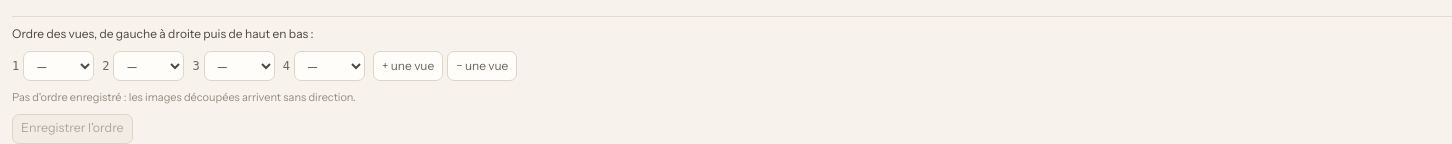
une liste par vue trouvée sur la planche, et l'ordre ne part qu'entier
(page scrolled)
Check: the text "Ordre des vues, de gauche à droite puis de haut en bas :" is shown, box [12,26,314,41]
Check: the text "arrivent sans direction" is shown, box [12,90,356,104]
Step 1. Select "sud" in the dropdown named "Vue 1" → (59, 66), box [23,51,94,81]
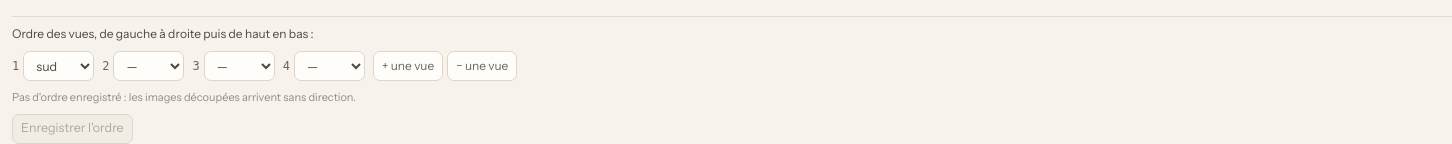
Step 2. Select "est" in the dropdown named "Vue 2" → (149, 66), box [114,51,184,81]
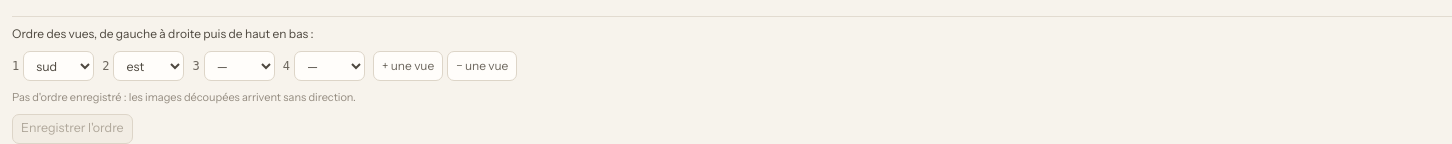
Step 3. Select "nord" in the dropdown named "Vue 3" → (239, 66), box [204,51,275,81]
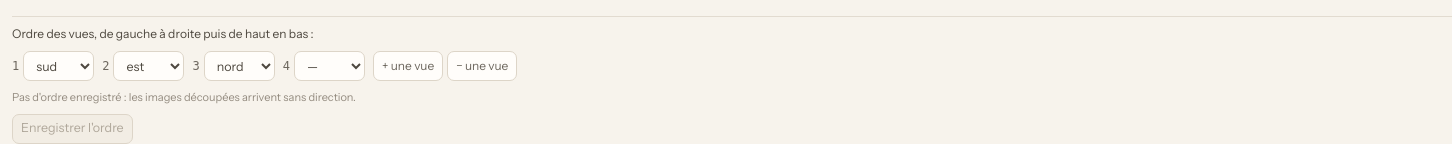
Step 4. Select "ouest" in the dropdown named "Vue 4" → (329, 66), box [294,51,365,81]
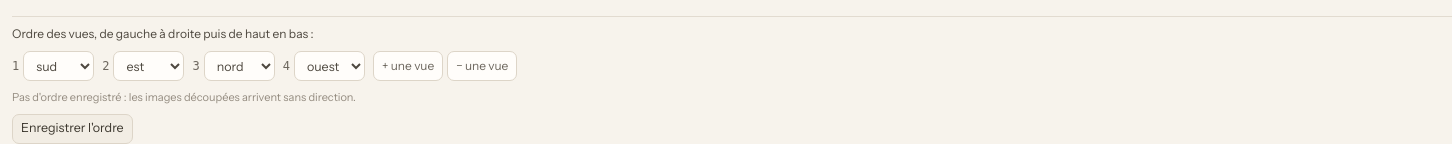
Check: the button "Enregistrer l'ordre" is enabled
Step 5. Click the button "Enregistrer l'ordre" → (72, 128), box [12,114,133,143]
(page scrolled)
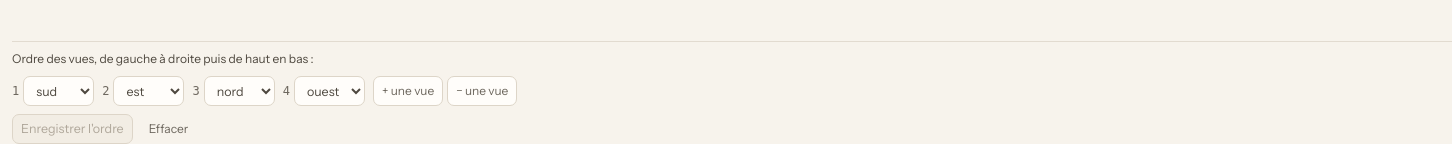
Check: the button "Effacer" is shown, box [141,114,196,143]
